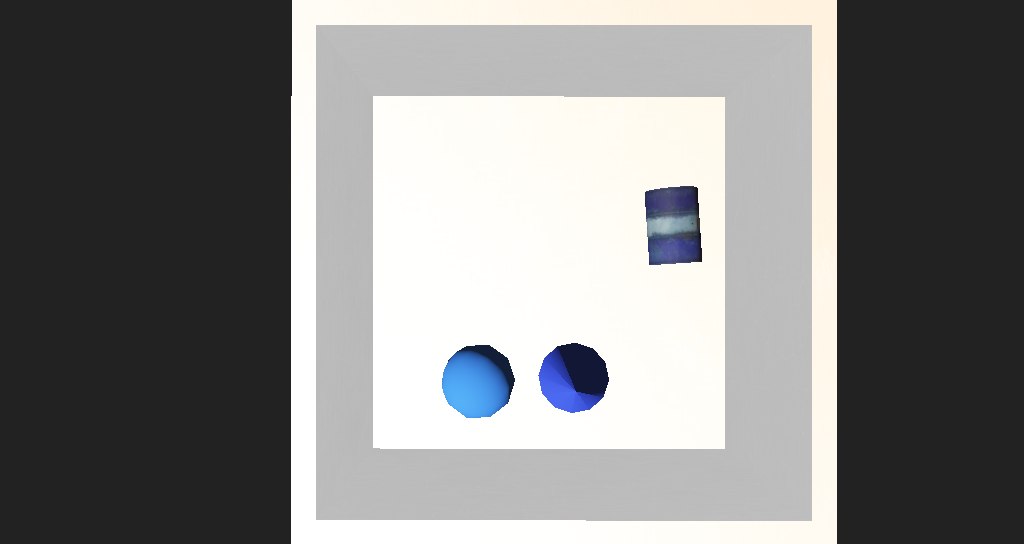cone: (586, 215, 640, 262)
cylinder: (492, 313, 559, 365)
sphere: (414, 313, 475, 356)
